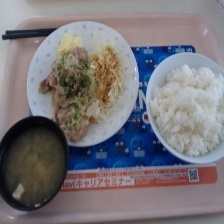rice: (147, 62, 224, 161)
